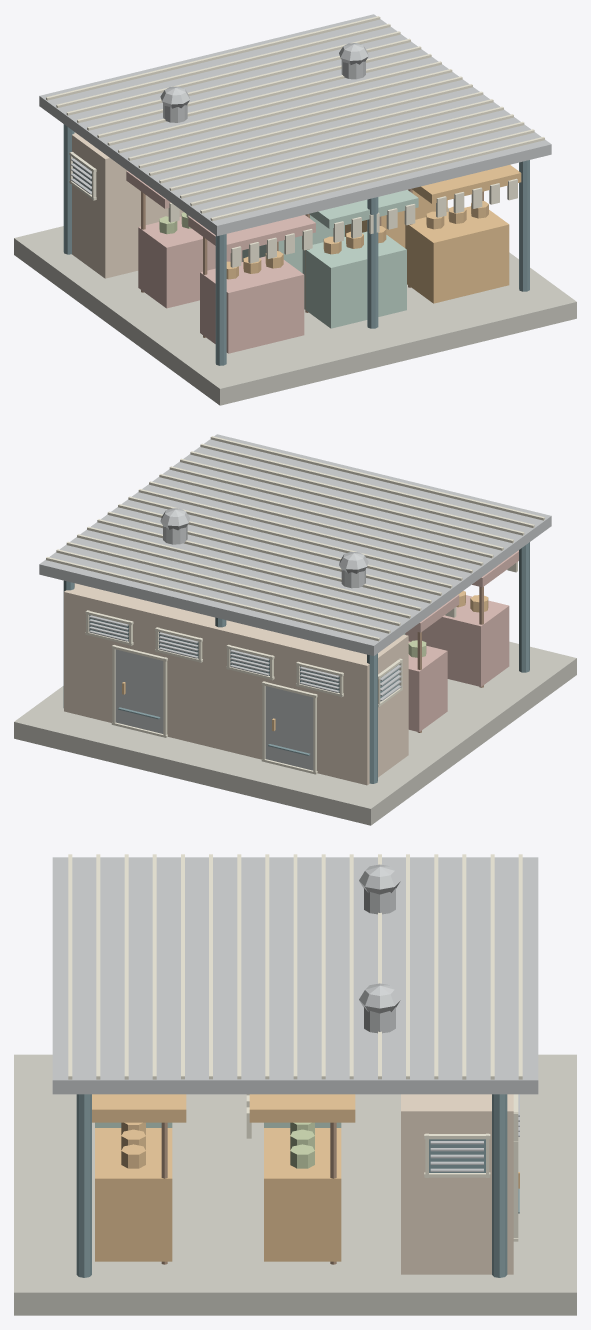
File: dot-tpl-market.glb
3 renders of one model, top to bottom at view 1: azimuth 30°, elevation 25°; view 2: azimuth 150°, elevation 25°; view 3: azimuth 270°, elevation 25°, orthographic. The views are drawn at different scales.
Parts seen in each view (by area): view 1: paving; view 2: paving; view 3: paving.
Part boxes in pixels (<box>): paving: <box>14,14,576,405</box>; paving: <box>14,434,576,825</box>; paving: <box>14,854,576,1315</box>.
Size of the model in its own units: 4 by 2.12 by 4.
1 material, 1 textured.
